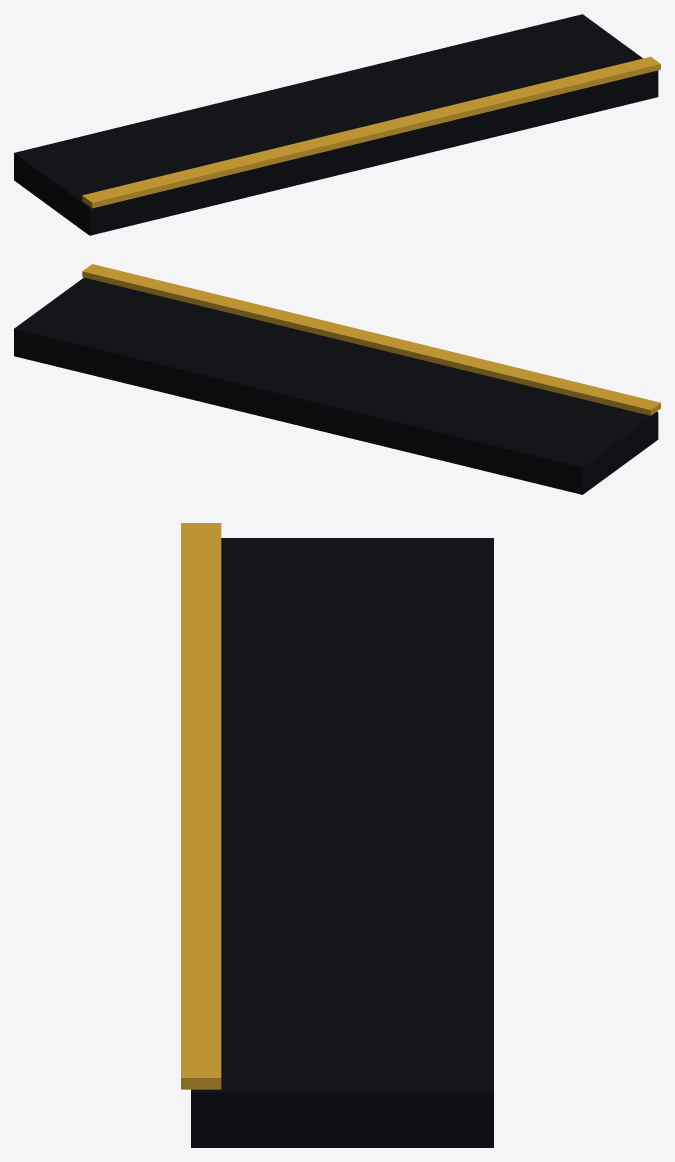
Rendered from prop.floor_cable_ramp.glb.
The picture shows the model from 3 angles, top to bottom: view 1: azimuth 30°, elevation 25°; view 2: azimuth 150°, elevation 25°; view 3: azimuth 270°, elevation 25°; orthographic projection. The views are drawn at different scales.
Parts seen in each view (by area): view 1: ramp_body, yellow_edge; view 2: ramp_body, yellow_edge; view 3: ramp_body, yellow_edge.
Part boxes in pixels (left/top/right/bottom): ramp_body: left=14, top=14, right=658, bottom=235; yellow_edge: left=82, top=56, right=660, bottom=208; ramp_body: left=14, top=277, right=658, bottom=494; yellow_edge: left=82, top=264, right=660, bottom=415; ramp_body: left=191, top=538, right=493, bottom=1147; yellow_edge: left=181, top=523, right=221, bottom=1089.
Size of the model in its own units: 2.6 by 0.1525 by 0.62.
